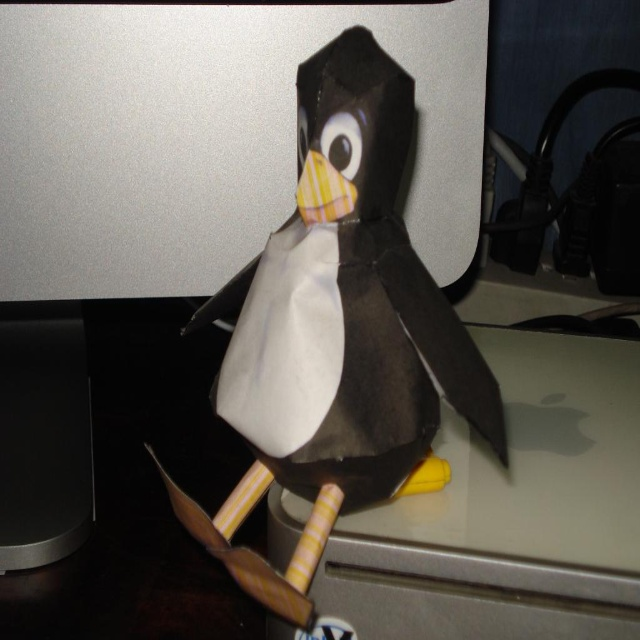Penguin: (146, 23, 510, 636)
